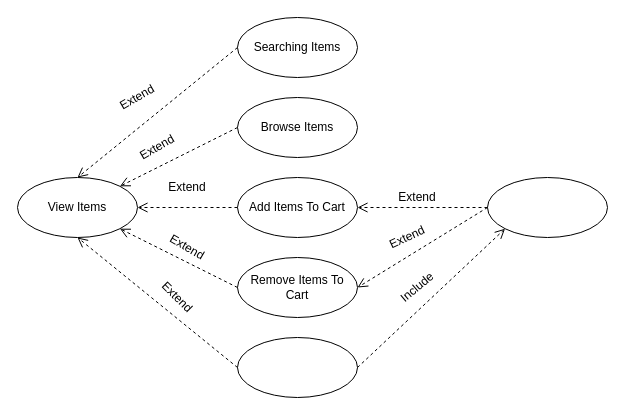
Some shapes in this 625 by 415 pixel diagram are drawn without their labels. The shapes that lost their labels are listed below. From the top down, each one's box as (x1, y1, x2, y2) in pixels, then its label:
(486, 176, 608, 238): Customer Authentication
(236, 336, 358, 398): View Recommended Items
